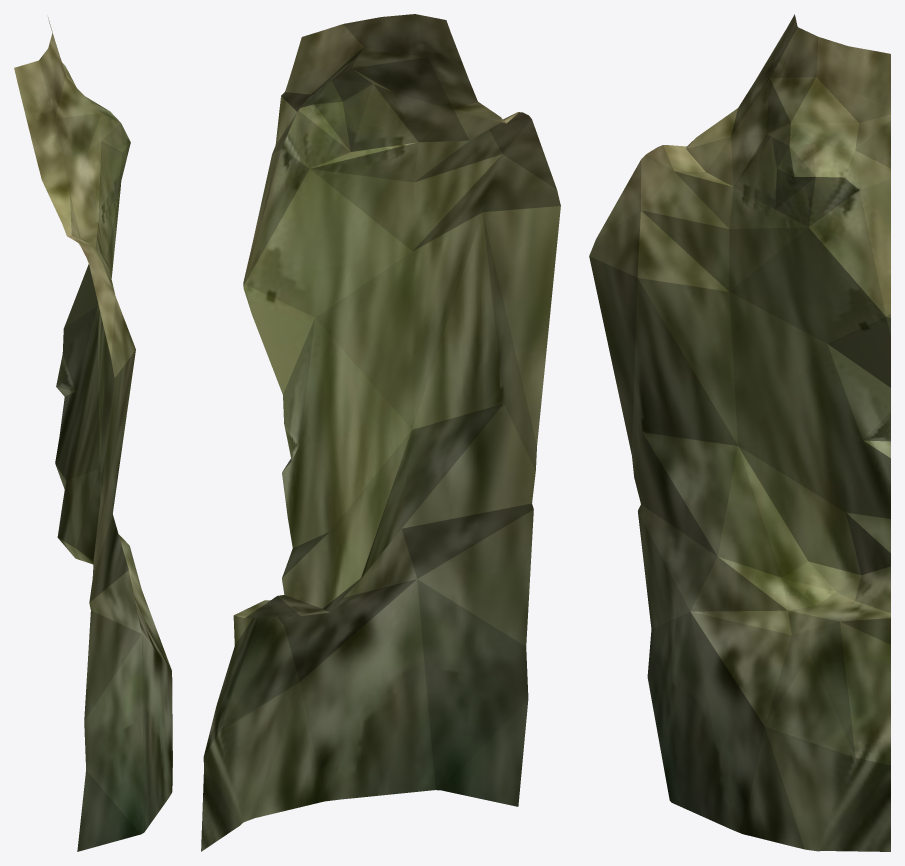
3 views of the same model, side by side, from view 1: azimuth 30°, elevation 25°; view 2: azimuth 150°, elevation 25°; view 3: azimuth 270°, elevation 25° (orthographic). The views are drawn at different scales.
Bounding box in the file's own units: 0.7105 × 2.95 × 1.07.
1 material, 1 textured.
